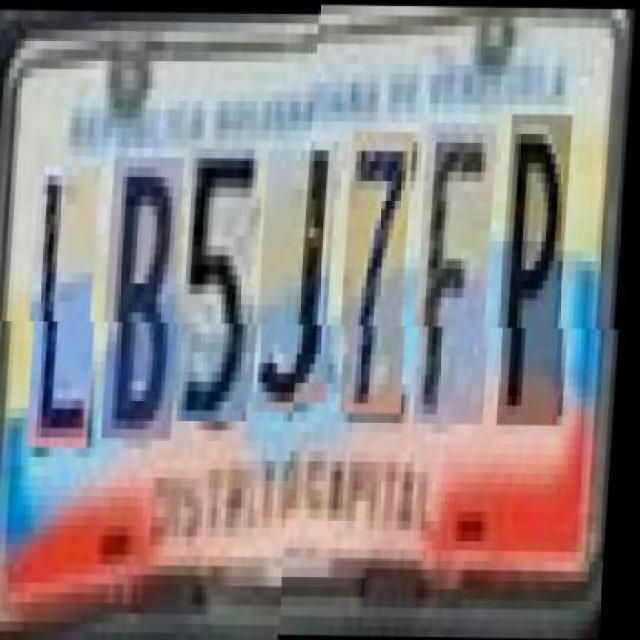5: (182, 148, 267, 420)
7: (345, 140, 420, 422)
b: (107, 156, 191, 439)
f: (419, 132, 503, 433)
j: (262, 148, 344, 412)
l: (32, 165, 108, 448)
p: (502, 122, 578, 433)
